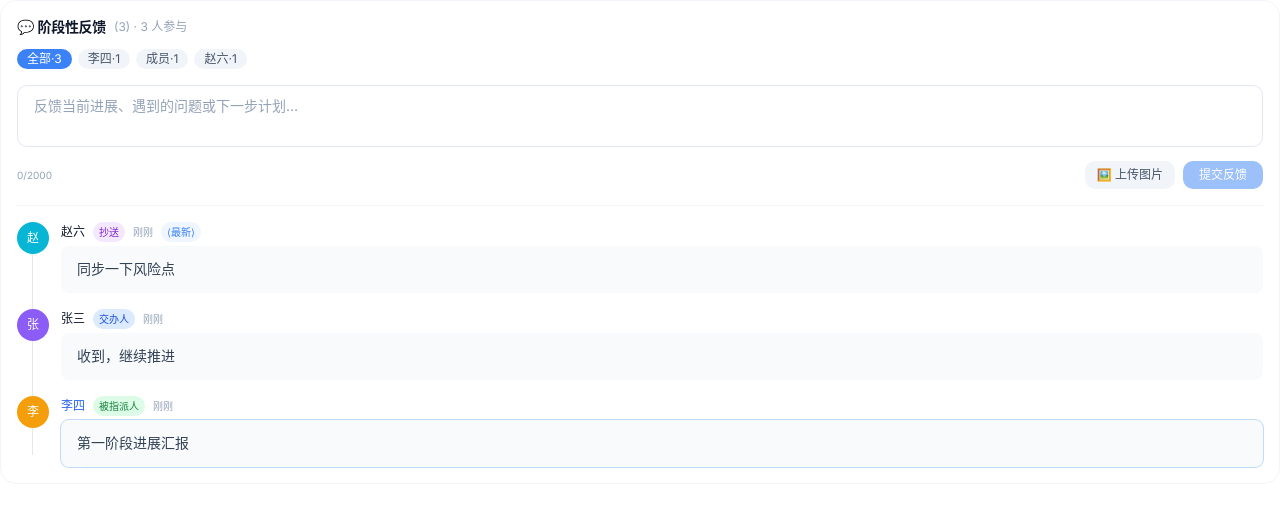
Test: FeedbackTimeline › 提交失败应显示后端错误信息且不追加
In the text box with placeholder "反馈当前进展、遇到的问题或下一步计划…": (640, 116) [17,85,1263,147], type "测试失败场景"
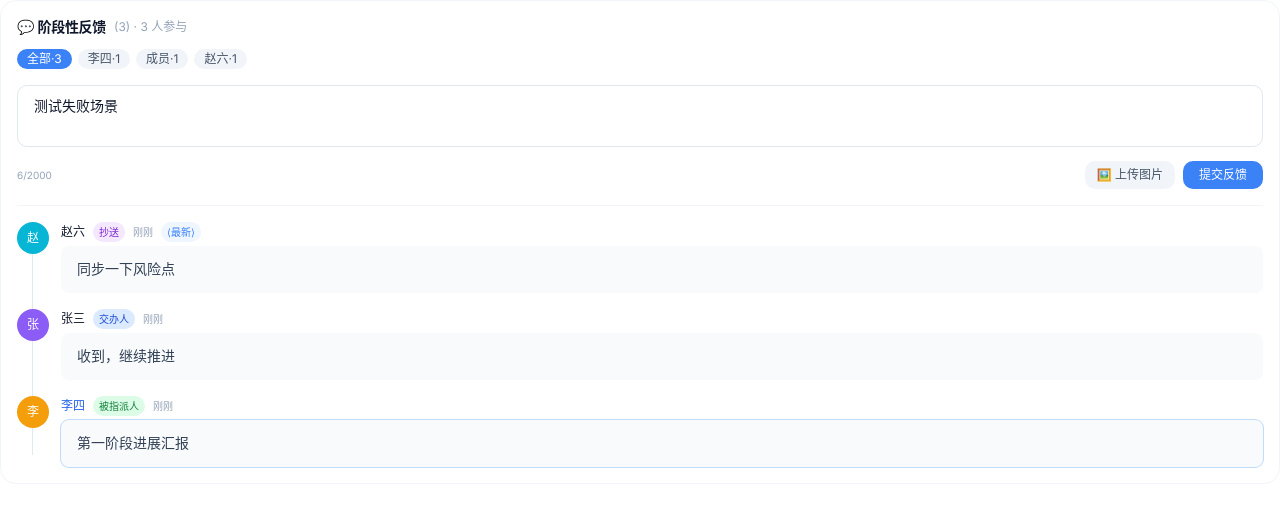
Click the button "提交反馈": (1223, 175) [1183,161,1263,189]
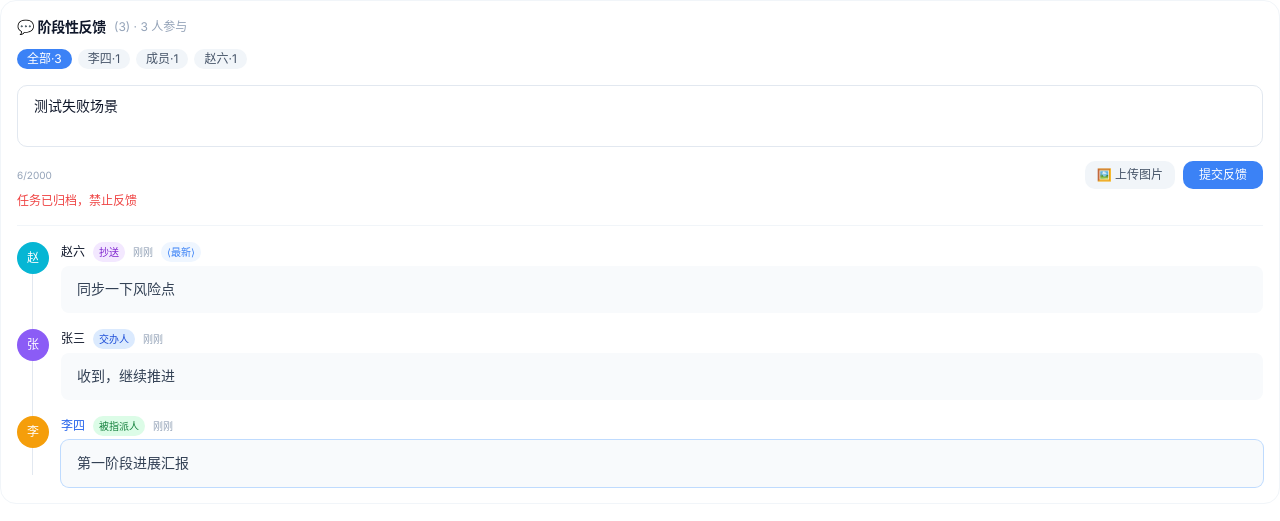
expect the number of elements with class "items-start" is 3: met, box [17,242,1263,329]; [17,329,1263,416]; [17,416,1263,487]
expect the text "任务已归档，禁止反馈" is shown: met, box [17,193,137,208]
